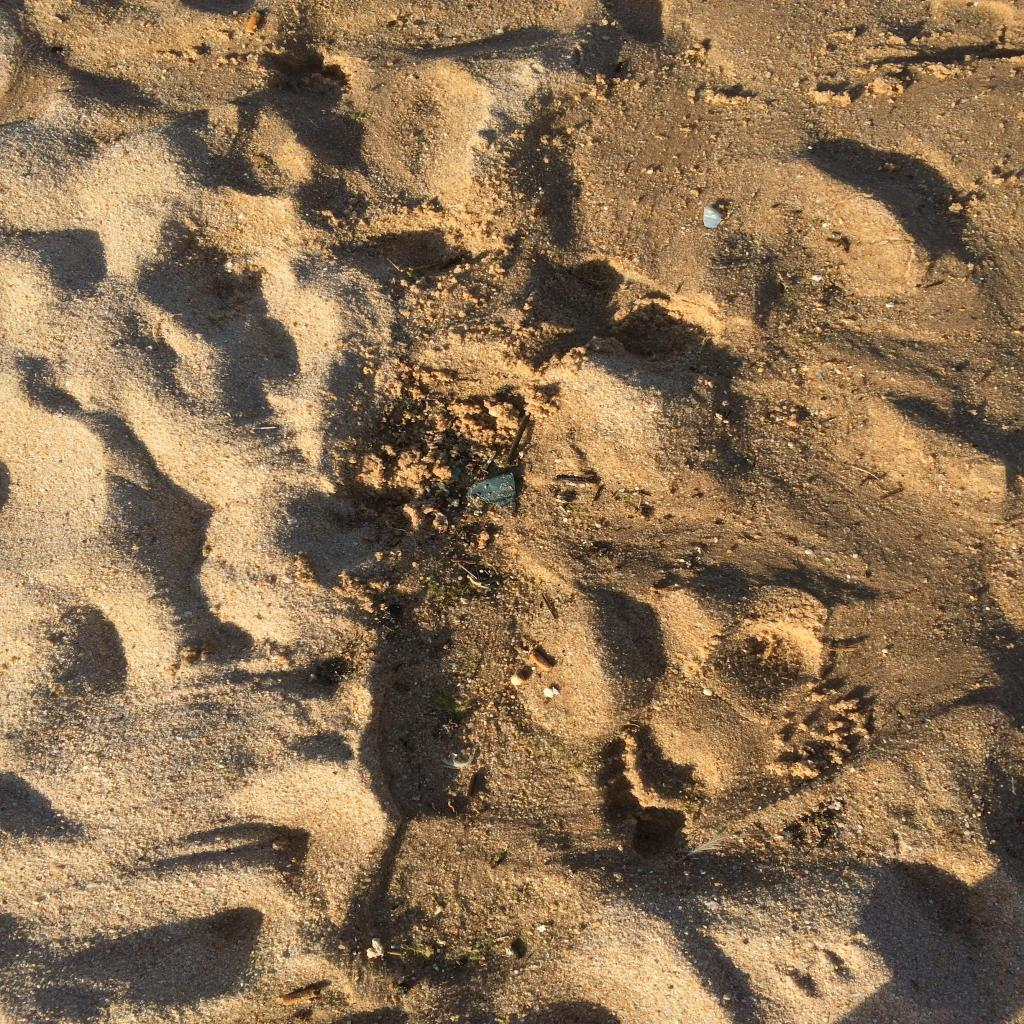Cigarette: (284, 986, 320, 1006), (528, 648, 554, 672), (244, 11, 264, 34)
Other plastic bottle: (461, 472, 515, 506)
